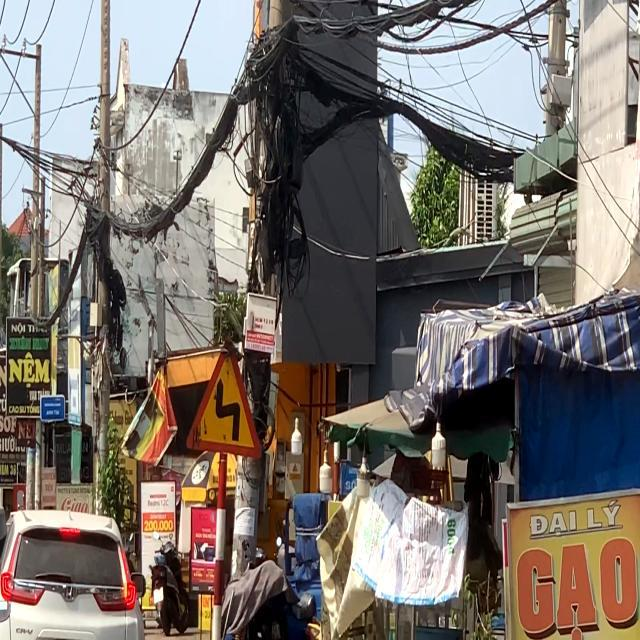W-202a: (185, 341, 263, 458)
